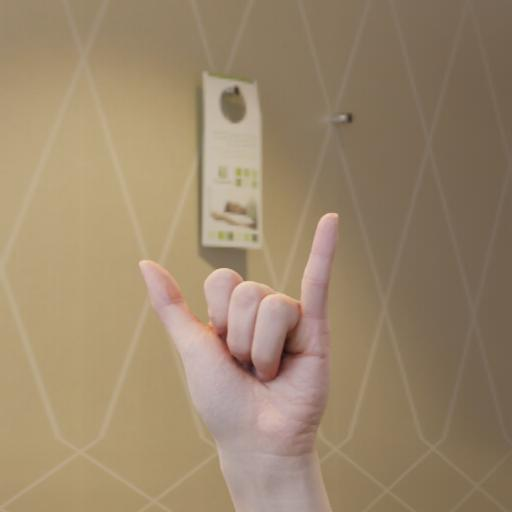Y: (123, 200, 378, 458)
